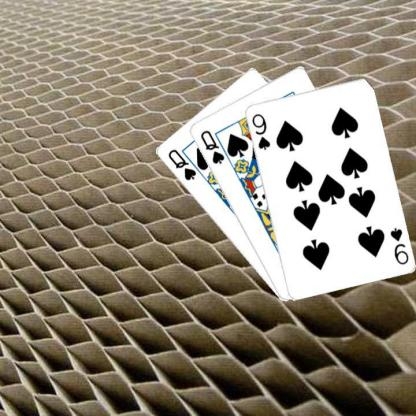9S: (387, 225, 410, 266), (249, 111, 271, 151)
QS: (165, 146, 198, 182), (198, 127, 225, 165)
